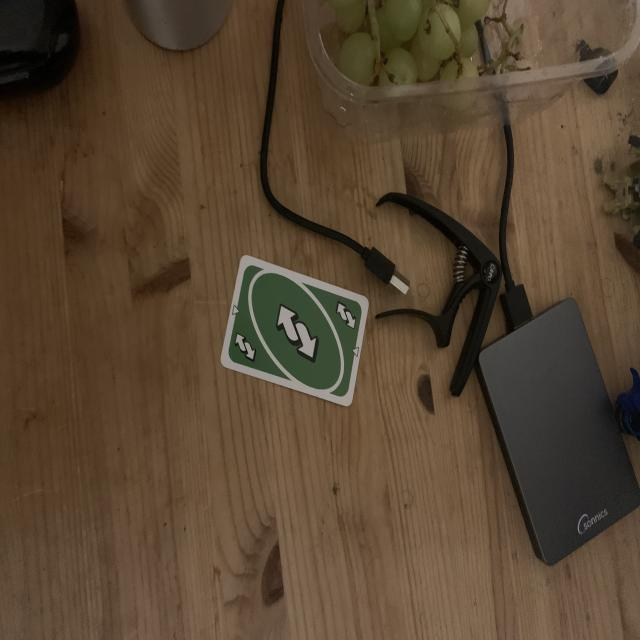lgreenrevers-20: (233, 331, 260, 365)
